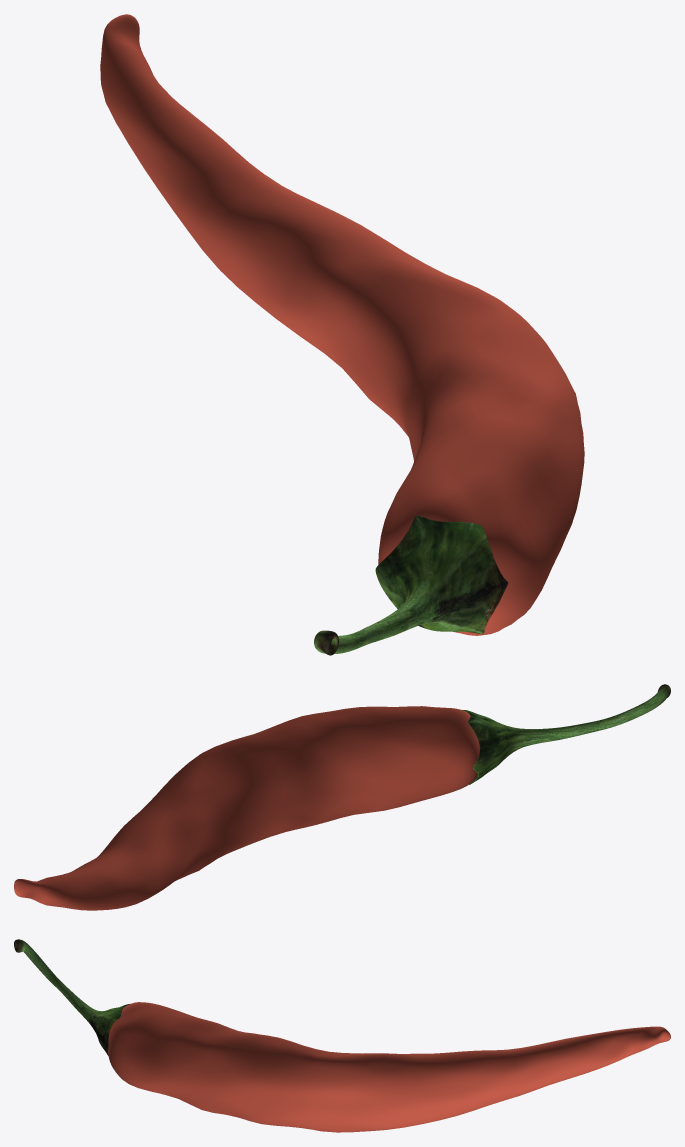
Rendered from pepper.fbx.
3 renders of one model, top to bottom at view 1: azimuth 30°, elevation 25°; view 2: azimuth 150°, elevation 25°; view 3: azimuth 270°, elevation 25°, orthographic. The views are drawn at different scales.
Parts seen in each view (by area): view 1: Pepper_Chili_03; view 2: Pepper_Chili_03; view 3: Pepper_Chili_03.
Part boxes in pixels (x1,y1,x2,y2): Pepper_Chili_03: [100, 14, 584, 655]; Pepper_Chili_03: [14, 684, 670, 910]; Pepper_Chili_03: [14, 939, 670, 1132].
Bounding box in the file's own units: 5.75 × 2.12 × 12.63.
